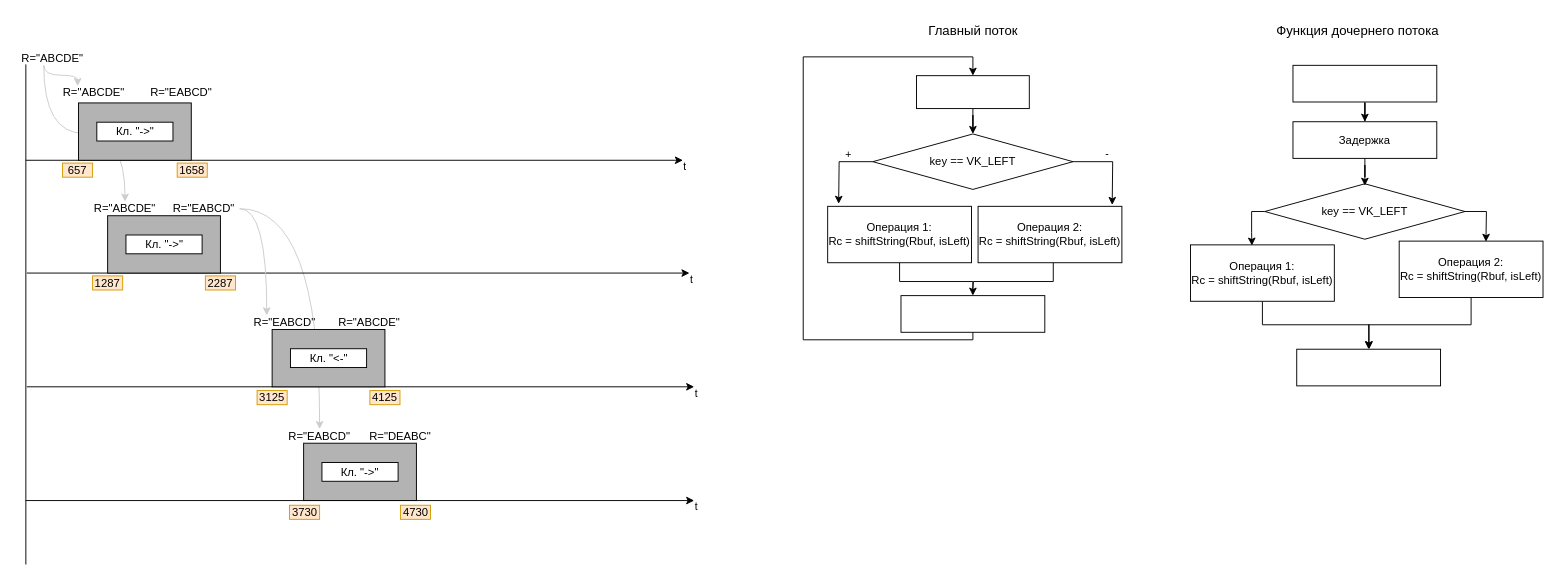
This 1559x582 diagram has some shape labels left out. Each missing label, with the box of its shape:
key: (916, 75, 1029, 109)
R=Rbuf: (1296, 348, 1441, 386)
Rbuf=R: (1292, 64, 1437, 102)
Создание и запуск дочернего потока: (900, 295, 1045, 332)
